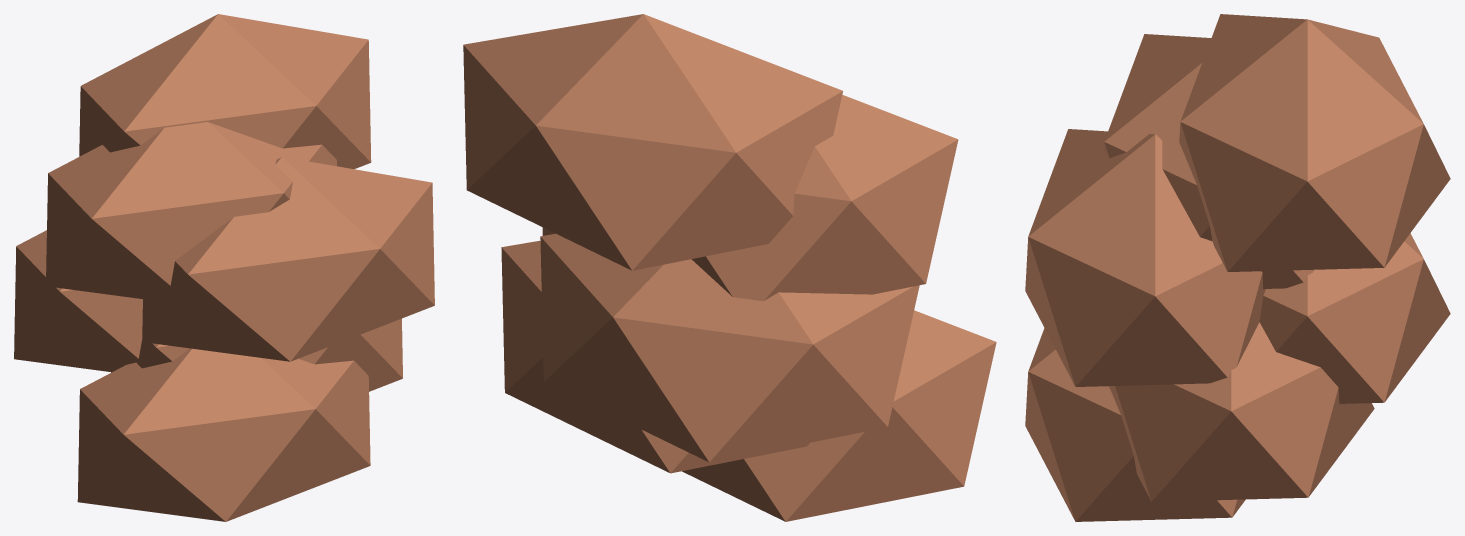
File: item_075_iron_ore_l.glb
The picture shows the model from 3 angles, left to right: view 1: azimuth 30°, elevation 25°; view 2: azimuth 150°, elevation 25°; view 3: azimuth 270°, elevation 25°; orthographic projection. The views are drawn at different scales.
Parts seen in each view (by area): view 1: item_075_iron_ore_l; view 2: item_075_iron_ore_l; view 3: item_075_iron_ore_l.
Part boxes in pixels (<box>): item_075_iron_ore_l: <box>14,14,434,521</box>; item_075_iron_ore_l: <box>463,14,996,521</box>; item_075_iron_ore_l: <box>1025,14,1450,521</box>.
Size of the model in its own units: 0.3855 by 0.4525 by 0.3355.
